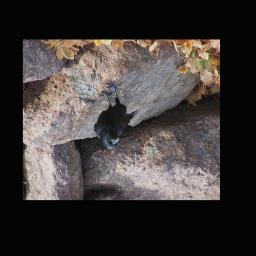Crow: (93, 80, 143, 153)
